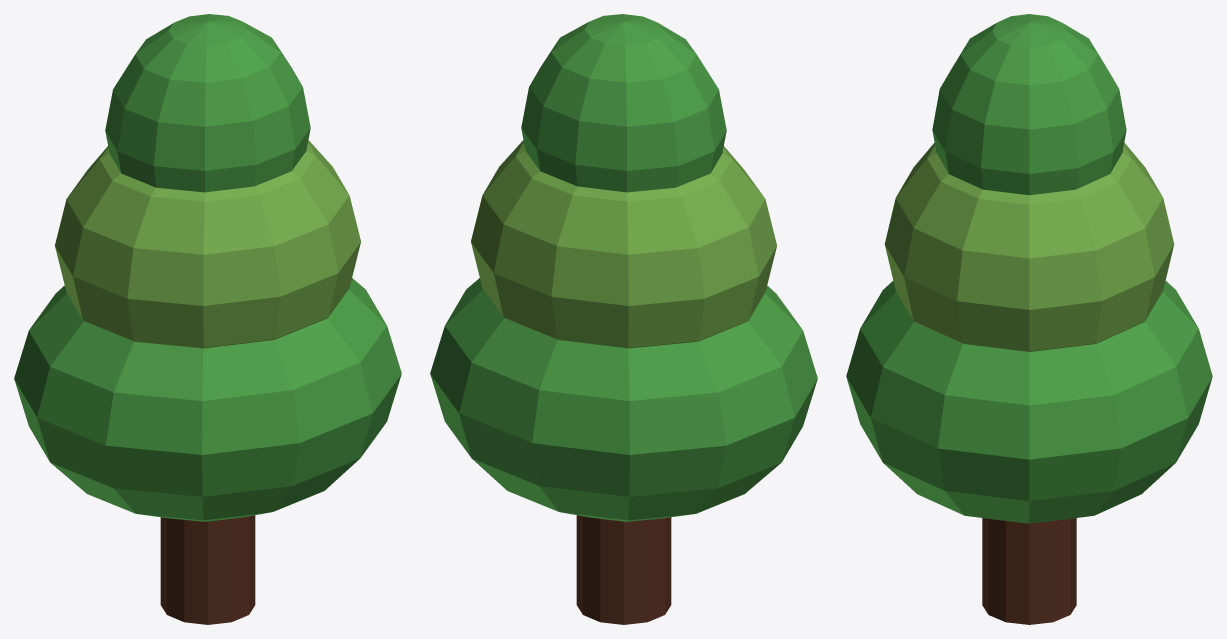
Rendered from tree.glb.
The picture shows the model from 3 angles, left to right: view 1: azimuth 30°, elevation 25°; view 2: azimuth 150°, elevation 25°; view 3: azimuth 270°, elevation 25°; orthographic projection.
Parts seen in each view (by area): view 1: tree_Surface; view 2: tree_Surface; view 3: tree_Surface.
Boxes of the visible parts, bbox=[...] form: tree_Surface: bbox=[14, 14, 401, 624]; tree_Surface: bbox=[430, 14, 817, 624]; tree_Surface: bbox=[846, 14, 1212, 624].
Bounding box in the file's own units: 1 × 1.63 × 0.93.
1 material, 1 textured.
